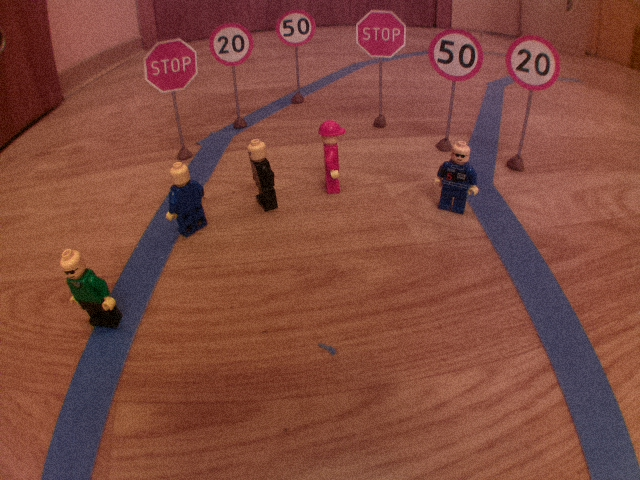LEGO_person: (55, 245, 132, 333), (163, 158, 213, 243), (432, 138, 482, 218), (242, 135, 283, 218), (312, 116, 350, 199)
ogr_20: (503, 31, 565, 95), (207, 21, 255, 70)
ogr_50: (426, 25, 486, 86), (273, 8, 319, 49)
stop: (141, 37, 200, 97), (354, 6, 410, 61)
